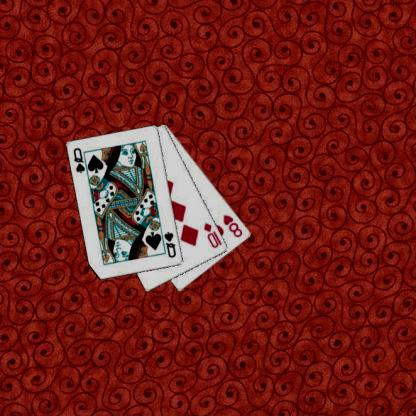10D: (202, 220, 223, 250)
8H: (220, 212, 244, 239)
QS: (70, 145, 86, 175), (162, 229, 177, 259)
